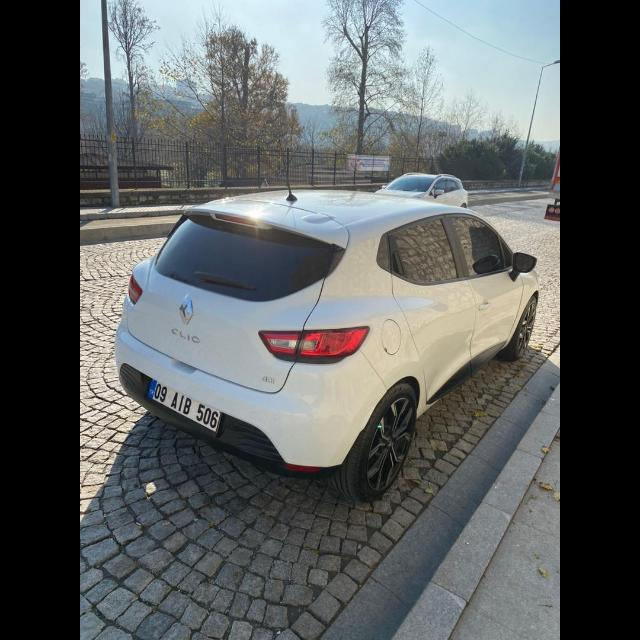Plaka: (148, 378, 222, 432)
